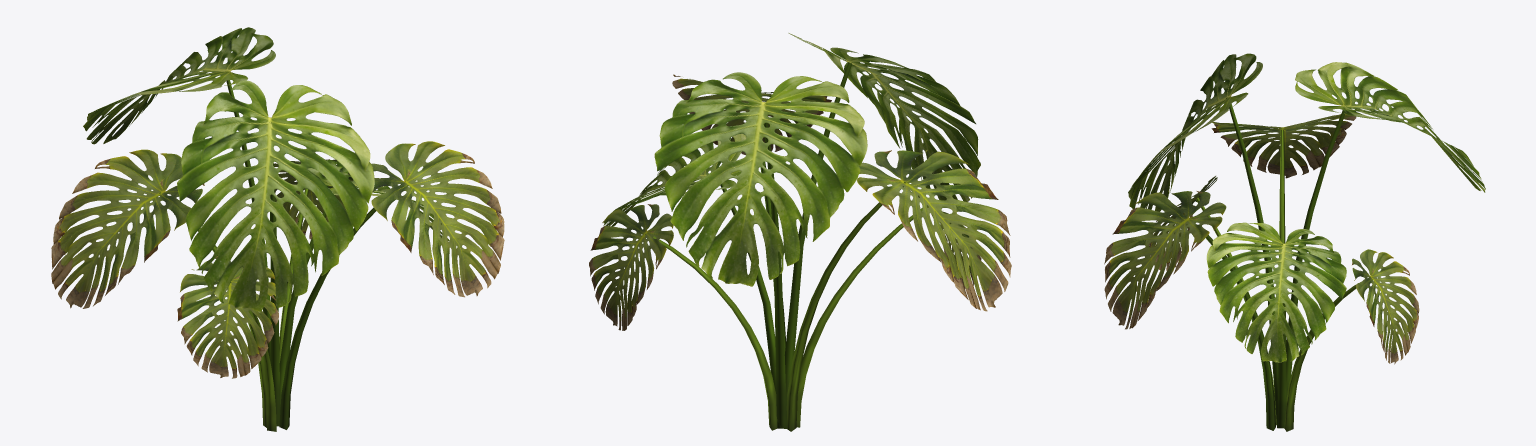
The model's file is monstera2.FBX.
3 views of the same model, side by side, from view 1: azimuth 30°, elevation 25°; view 2: azimuth 150°, elevation 25°; view 3: azimuth 270°, elevation 25° (orthographic). The views are drawn at different scales.
Parts seen in each view (by area): view 1: monstera2; view 2: monstera2; view 3: monstera2.
Part boxes in pixels (bbox=[...]): monstera2: bbox=[51, 27, 504, 431]; monstera2: bbox=[589, 33, 1011, 431]; monstera2: bbox=[1104, 53, 1485, 431].
Size of the model in its own units: 23.12 by 21.5 by 23.44.
